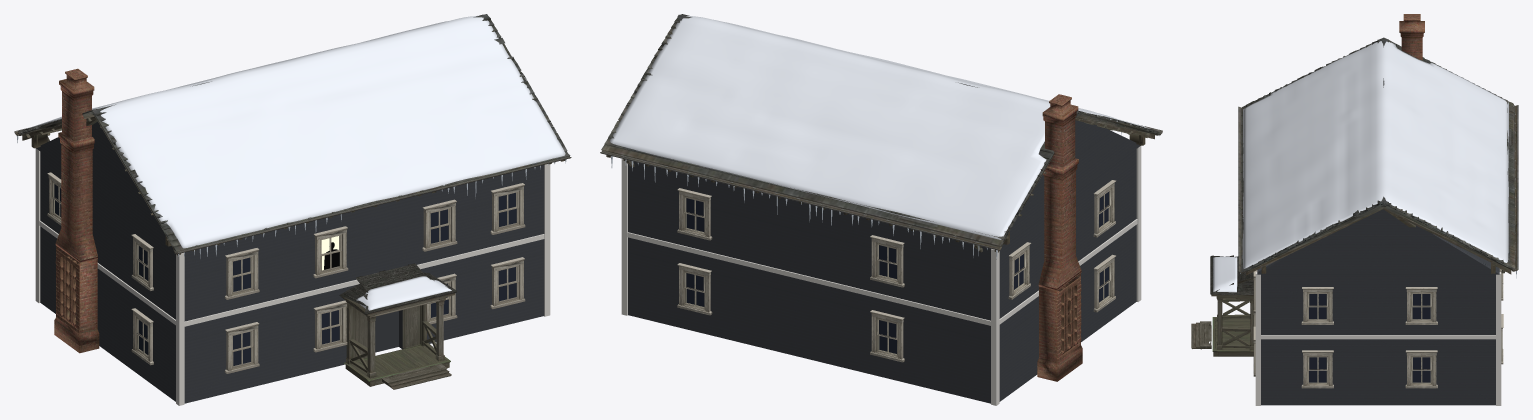
The model's file is house_exterior.glb.
3 views of the same model, side by side, from view 1: azimuth 30°, elevation 25°; view 2: azimuth 150°, elevation 25°; view 3: azimuth 270°, elevation 25° (orthographic). The views are drawn at different scales.
Parts seen in each view (by area): view 1: RoofSnow, Walls, Chimney, Porch, Roof, WindowGlass, GableL, FloorBand, PorchSnow, CornerFL, WinU2, WinU0 (+12 smaller); view 2: Walls, RoofSnow, Chimney, Roof, GableL, FloorBand, WindowGlass, CornerBL, WinBU0, WinB0, WinB1, WinBU1 (+6 smaller); view 3: RoofSnow, Walls, GableR, Roof, Porch, WindowGlass, FloorBand, Chimney, PorchSnow, WinR0, WinR1, WinRU0 (+4 smaller).
Boxes of the visible parts, x1,y1,x2,y2 form: RoofSnow: [27, 15, 565, 248]; Walls: [40, 151, 543, 403]; Chimney: [54, 68, 99, 353]; Porch: [339, 263, 456, 386]; Roof: [14, 14, 571, 255]; WindowGlass: [54, 184, 516, 365]; GableL: [36, 121, 172, 248]; FloorBand: [39, 221, 544, 326]; PorchSnow: [356, 276, 451, 310]; CornerFL: [176, 252, 184, 405]; WinU2: [422, 199, 457, 251]; WinU0: [224, 248, 259, 299]; Walls: [628, 149, 1136, 403]; RoofSnow: [610, 16, 1149, 239]; Chimney: [1037, 94, 1082, 381]; Roof: [600, 14, 1162, 252]; GableL: [1002, 120, 1140, 246]; FloorBand: [627, 219, 1137, 325]; WindowGlass: [686, 192, 1108, 353]; CornerBL: [991, 249, 999, 405]; WinBU0: [870, 235, 904, 287]; WinB0: [870, 310, 904, 362]; WinB1: [677, 263, 712, 315]; WinBU1: [677, 188, 712, 240]; RoofSnow: [1242, 41, 1508, 268]; Walls: [1257, 243, 1499, 405]; GableR: [1257, 209, 1499, 274]; Roof: [1238, 37, 1518, 275]; Porch: [1210, 255, 1253, 356]; WindowGlass: [1309, 294, 1430, 382]; FloorBand: [1261, 335, 1495, 339]; Chimney: [1399, 14, 1424, 60]; PorchSnow: [1213, 256, 1237, 292]; WinR0: [1301, 350, 1333, 388]; WinR1: [1405, 350, 1437, 388]; WinRU0: [1301, 287, 1333, 324].
Size of the model in its own units: 14.85 by 9.52 by 12.15.
13 materials, 7 textured.
